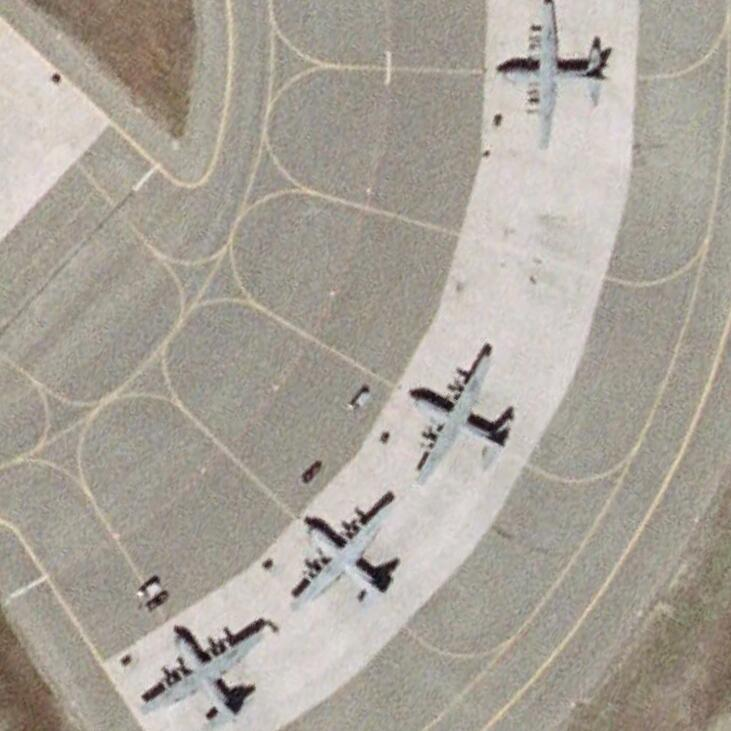A2: (494, 0, 610, 150), (408, 344, 515, 482), (138, 618, 275, 724), (290, 487, 400, 609)
